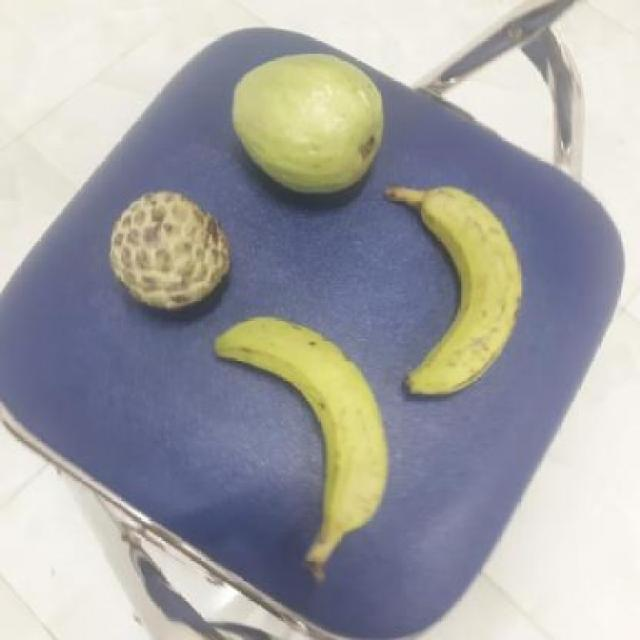banana: (208, 318, 388, 550), (382, 182, 526, 396)
guava: (226, 51, 385, 198)
sugar apple: (102, 190, 229, 312)
